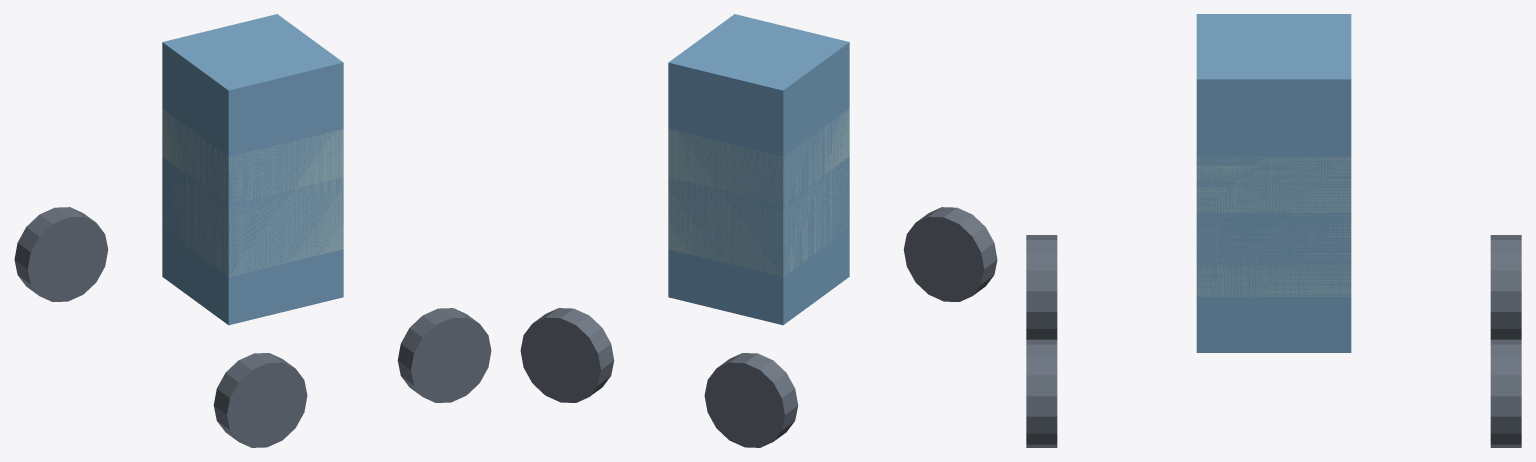
The model's file is veh_bus_mini_blue.glb.
3 renders of one model, left to right at view 1: azimuth 30°, elevation 25°; view 2: azimuth 150°, elevation 25°; view 3: azimuth 270°, elevation 25°, orthographic. The views are drawn at different scales.
Parts seen in each view (by area): view 1: world; view 2: world; view 3: world.
Part boxes in pixels (x1,y1,x2,y2): world: (14,14,491,447); world: (520,14,997,447); world: (1026,14,1521,447).
Size of the model in its own units: 2.3 by 2.45 by 3.2.
